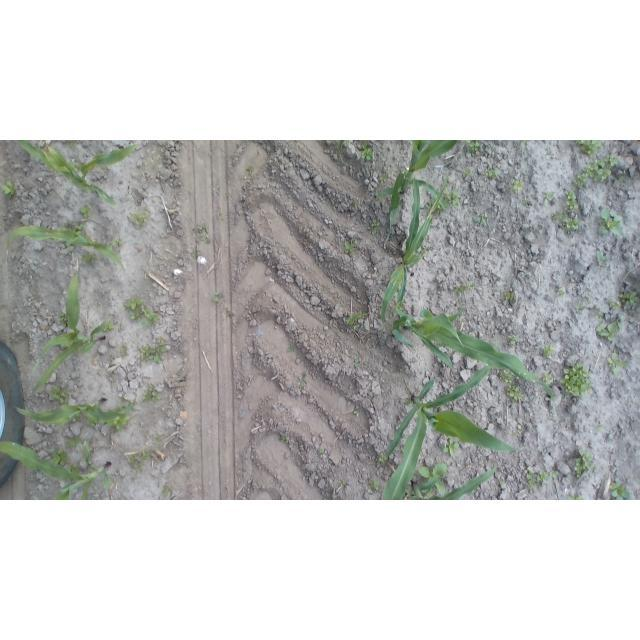Maize: (375, 345, 520, 500), (391, 304, 555, 402), (337, 141, 462, 248), (381, 169, 452, 324), (34, 275, 111, 391), (16, 140, 139, 205), (0, 440, 112, 499), (6, 226, 126, 275), (409, 464, 499, 500), (17, 399, 134, 426)
Weeds: (560, 363, 593, 398), (419, 462, 448, 498), (583, 153, 618, 181), (598, 209, 622, 235), (596, 317, 623, 340), (551, 210, 579, 232), (575, 450, 594, 479), (140, 344, 167, 364), (575, 140, 602, 158), (609, 353, 628, 376), (107, 414, 130, 432), (142, 303, 159, 327), (442, 189, 461, 210), (50, 387, 70, 406), (610, 482, 631, 500), (142, 384, 160, 403), (48, 450, 68, 467), (443, 436, 460, 456), (564, 189, 579, 211), (0, 179, 16, 199), (506, 384, 522, 404), (620, 291, 640, 306), (345, 312, 367, 325), (130, 211, 148, 226), (125, 296, 144, 310), (596, 250, 609, 269), (499, 369, 515, 384), (524, 468, 536, 488), (69, 223, 87, 236), (509, 179, 524, 194), (573, 173, 588, 187), (541, 344, 555, 358), (81, 253, 96, 266), (120, 397, 137, 408), (485, 166, 499, 179), (80, 204, 92, 219), (370, 218, 380, 235), (476, 214, 489, 227), (67, 436, 81, 448), (361, 147, 373, 161), (504, 334, 518, 346), (58, 310, 68, 326), (68, 462, 80, 475), (467, 141, 479, 154), (369, 478, 380, 492), (162, 484, 174, 496), (344, 241, 356, 253), (542, 372, 554, 384), (537, 471, 549, 483), (68, 161, 81, 172), (543, 191, 553, 205), (70, 412, 82, 423), (103, 322, 115, 333), (141, 449, 152, 460), (130, 310, 141, 321), (200, 233, 211, 244), (379, 171, 389, 183), (405, 488, 415, 500), (436, 203, 445, 216), (87, 417, 97, 428), (213, 291, 224, 301), (453, 285, 464, 295), (465, 282, 475, 293), (425, 199, 436, 209), (462, 167, 472, 177), (611, 301, 622, 310), (377, 454, 388, 463), (130, 453, 137, 467), (135, 462, 143, 474), (502, 292, 514, 300), (575, 304, 585, 313), (375, 189, 384, 199), (398, 299, 405, 311), (299, 378, 308, 387), (119, 345, 127, 355), (113, 237, 123, 245), (154, 433, 162, 443), (567, 495, 581, 500), (198, 223, 209, 229), (193, 249, 199, 260), (550, 470, 558, 478), (524, 198, 531, 207), (157, 337, 165, 344), (247, 166, 254, 174), (557, 290, 566, 296), (355, 358, 360, 368), (69, 141, 76, 148), (362, 141, 369, 148), (339, 479, 346, 486), (288, 344, 294, 352), (353, 198, 359, 206), (352, 411, 360, 417), (317, 447, 323, 454), (407, 398, 412, 406), (280, 435, 286, 441), (459, 306, 465, 312), (596, 427, 602, 433), (597, 313, 604, 318), (354, 325, 359, 331), (226, 310, 231, 315), (514, 432, 519, 437), (584, 297, 588, 302), (518, 425, 522, 430), (500, 481, 504, 486), (521, 141, 527, 144), (142, 206, 146, 210)
